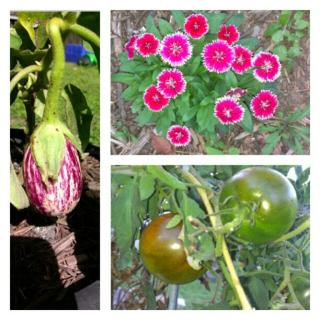tomato: (218, 166, 296, 244), (139, 212, 211, 286), (287, 270, 309, 310)
